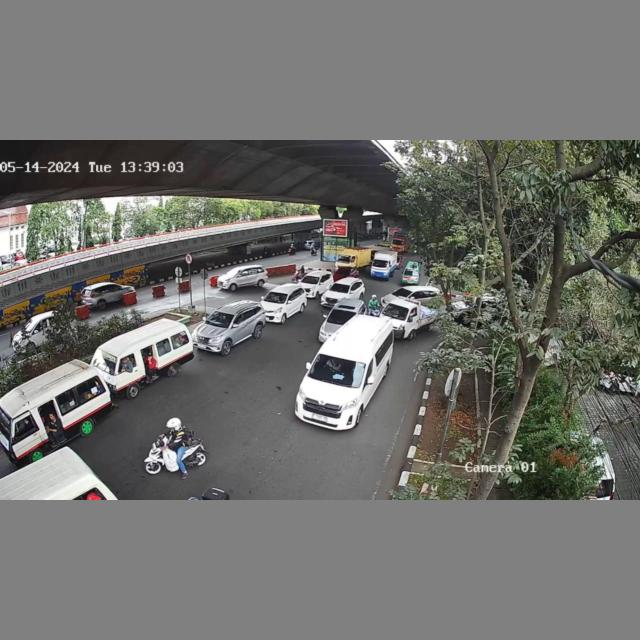windshield: (308, 353, 366, 385), (92, 351, 119, 375), (383, 302, 415, 321), (327, 308, 357, 325), (206, 312, 233, 327), (263, 291, 287, 303), (330, 282, 351, 293)
